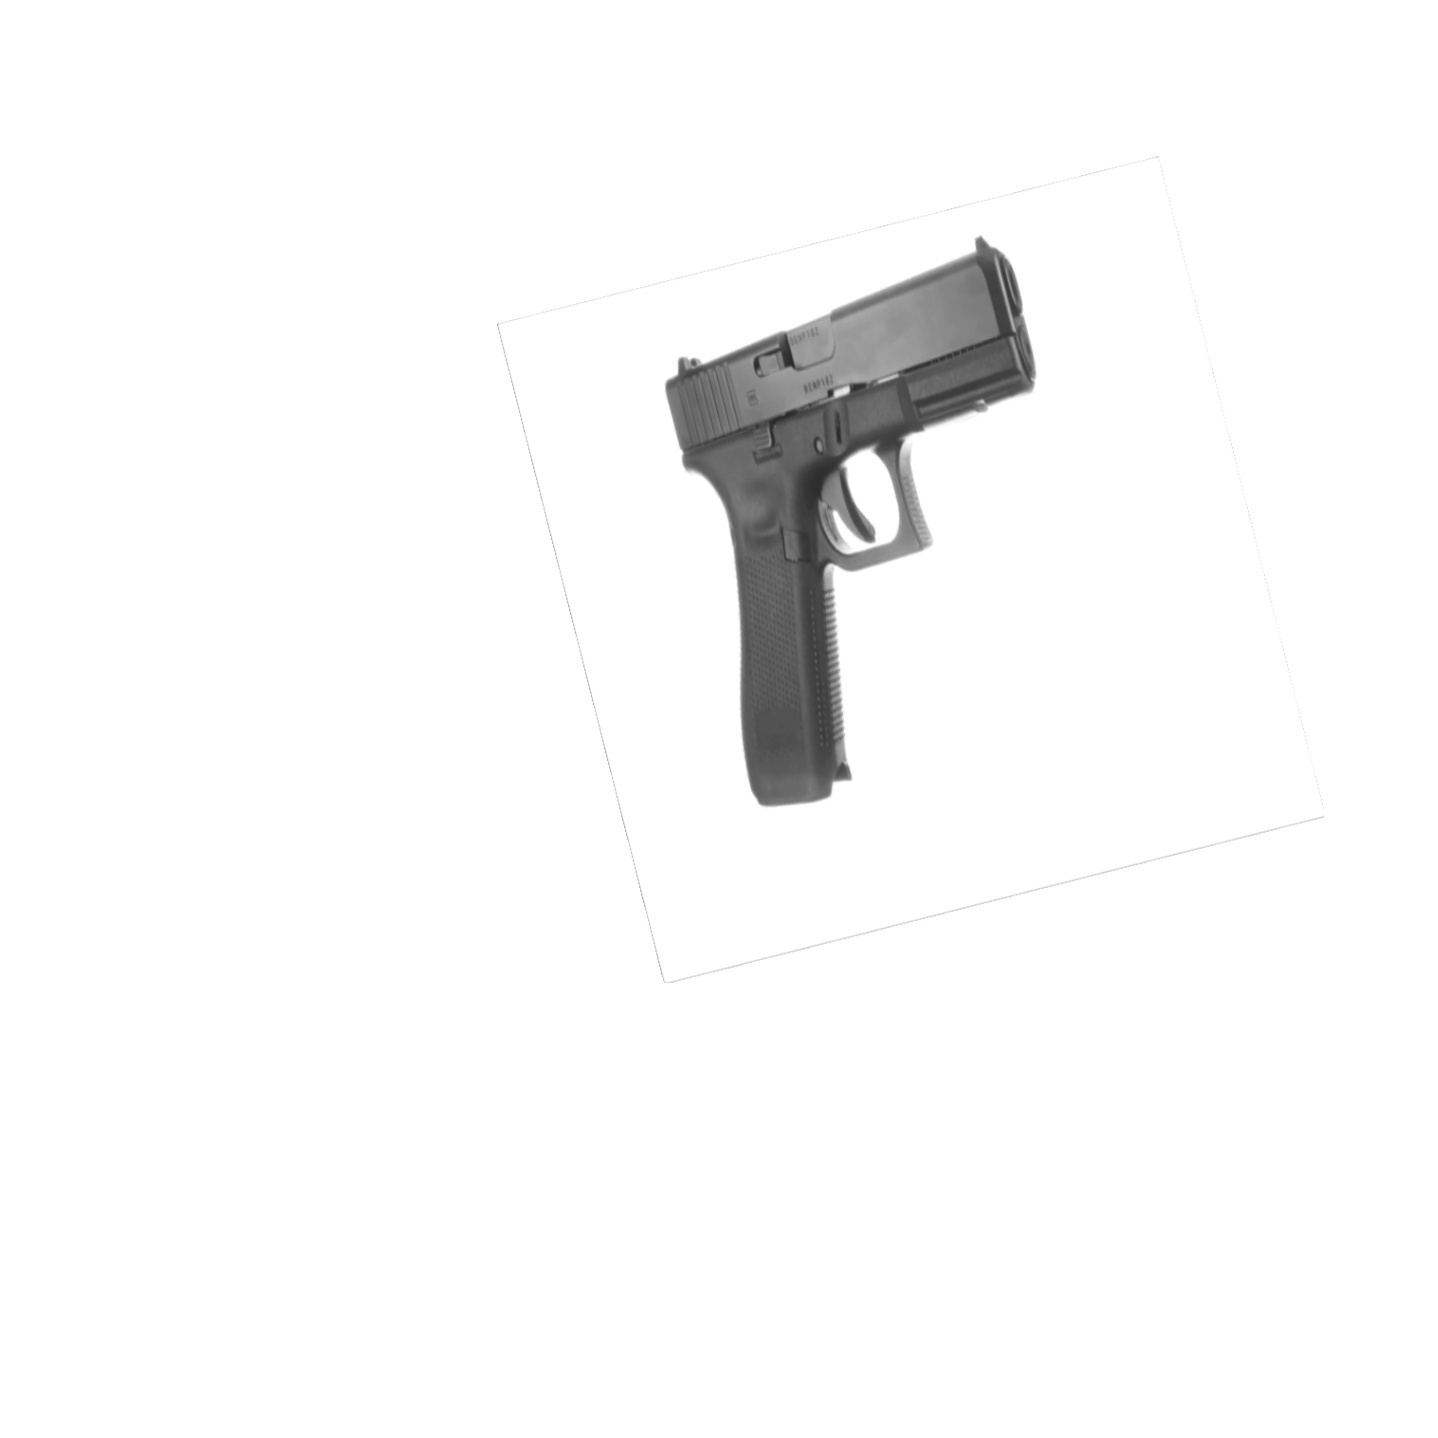gun: (660, 230, 1039, 812)
